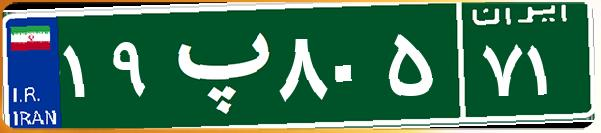0: (330, 28, 385, 110)
1: (57, 26, 110, 107), (525, 38, 570, 115)
5: (385, 28, 445, 110)
7: (475, 38, 525, 113)
8: (273, 28, 330, 110)
9: (110, 28, 158, 105)
پ: (158, 15, 273, 115)
